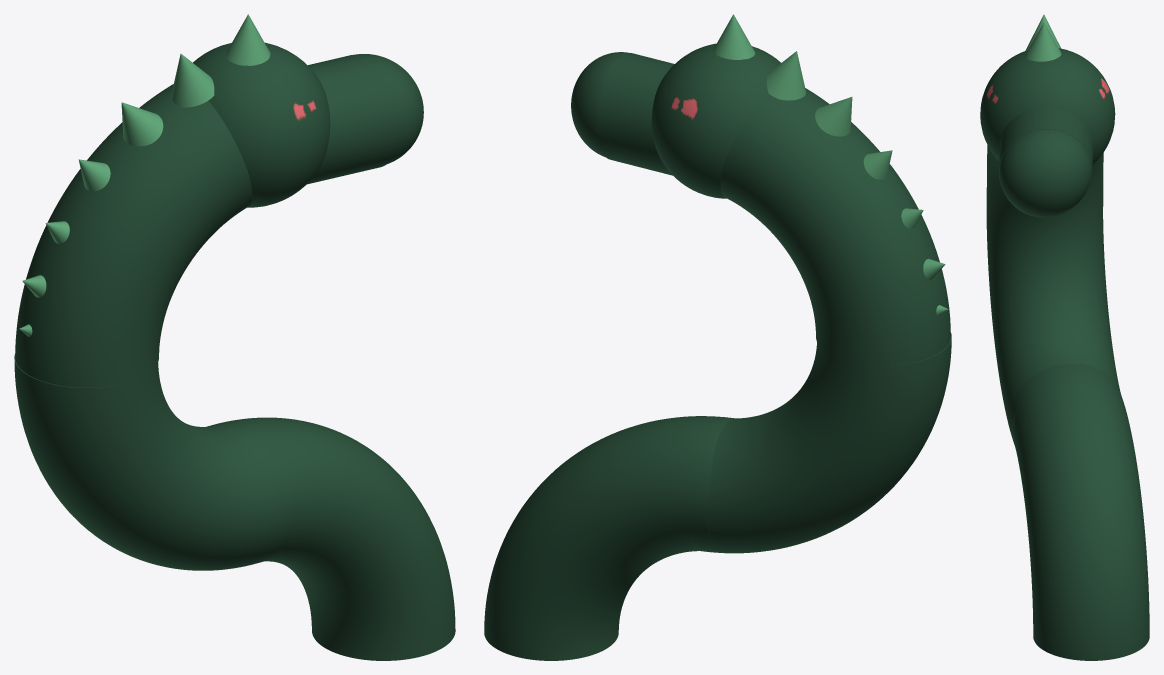
The model's file is sea monster head.fbx.
3 views of the same model, side by side, from view 1: azimuth 30°, elevation 25°; view 2: azimuth 150°, elevation 25°; view 3: azimuth 270°, elevation 25° (orthographic). The views are drawn at different scales.
Visible parts, largest first — view 1: root (×6), node_id56, node_id55, node_id52, node_id53; view 2: root (×5), node_id55, node_id56, node_id52, node_id53; view 3: node_id55, node_id56, root (×3), node_id53, node_id52.
Boxes of the visible parts, bbox=[...] form: root (×6): bbox=[15, 14, 330, 387]; node_id56: bbox=[14, 353, 292, 570]; node_id55: bbox=[207, 417, 455, 660]; node_id52: bbox=[307, 55, 397, 184]; node_id53: bbox=[354, 54, 423, 163]; root (×5): bbox=[651, 14, 950, 365]; node_id55: bbox=[484, 416, 734, 660]; node_id56: bbox=[689, 333, 951, 553]; node_id52: bbox=[597, 53, 674, 175]; node_id53: bbox=[571, 52, 629, 157]; node_id55: bbox=[1012, 363, 1149, 660]; node_id56: bbox=[986, 206, 1120, 445]; root (×3): bbox=[980, 22, 1115, 229]; node_id53: bbox=[999, 129, 1091, 217]; node_id52: bbox=[999, 108, 1093, 186].
Size of the model in its own units: 0.2489 by 0.3536 by 0.0989.
Materials: 13 (13 with a texture image).
